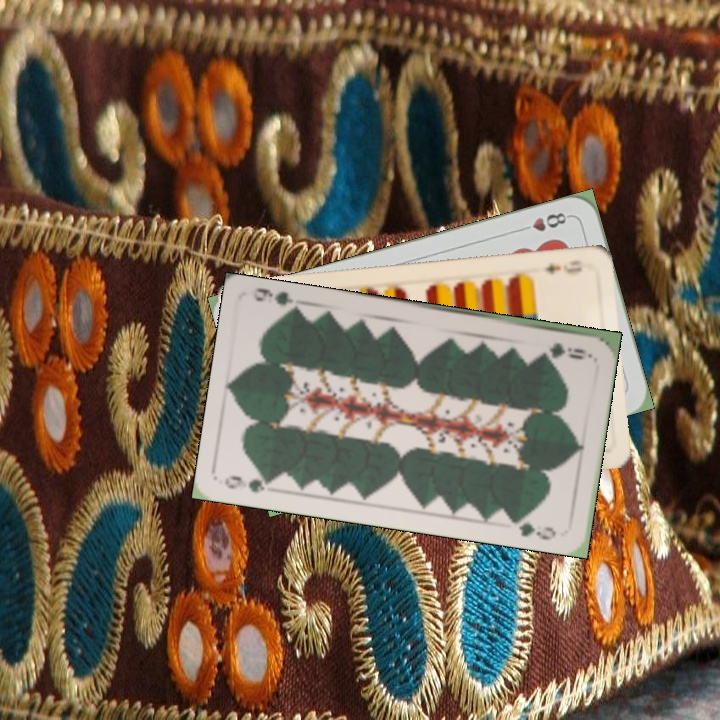E9: (540, 260, 585, 277)
G9: (220, 471, 278, 495), (535, 338, 592, 361)
H8: (515, 208, 573, 235)
